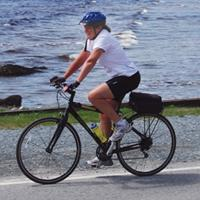person: (51, 12, 141, 166)
